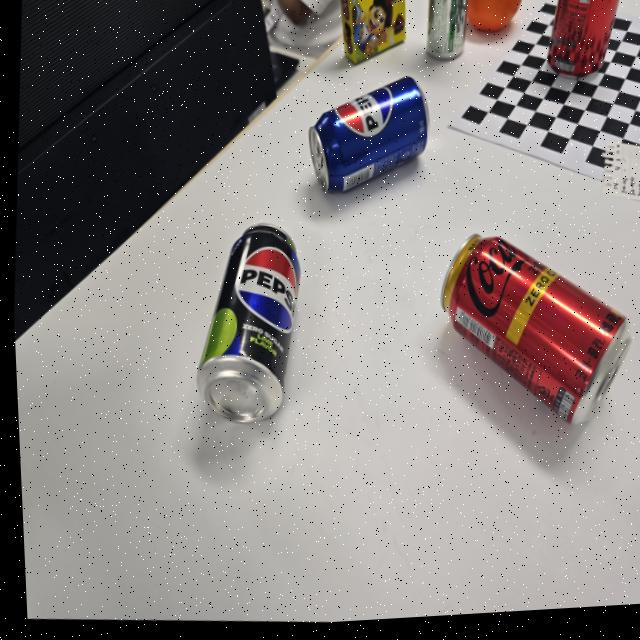can_coke_decaf: (439, 232, 632, 426)
can_pepsi: (307, 76, 431, 196)
can_pepsi_zero: (196, 222, 300, 426)
